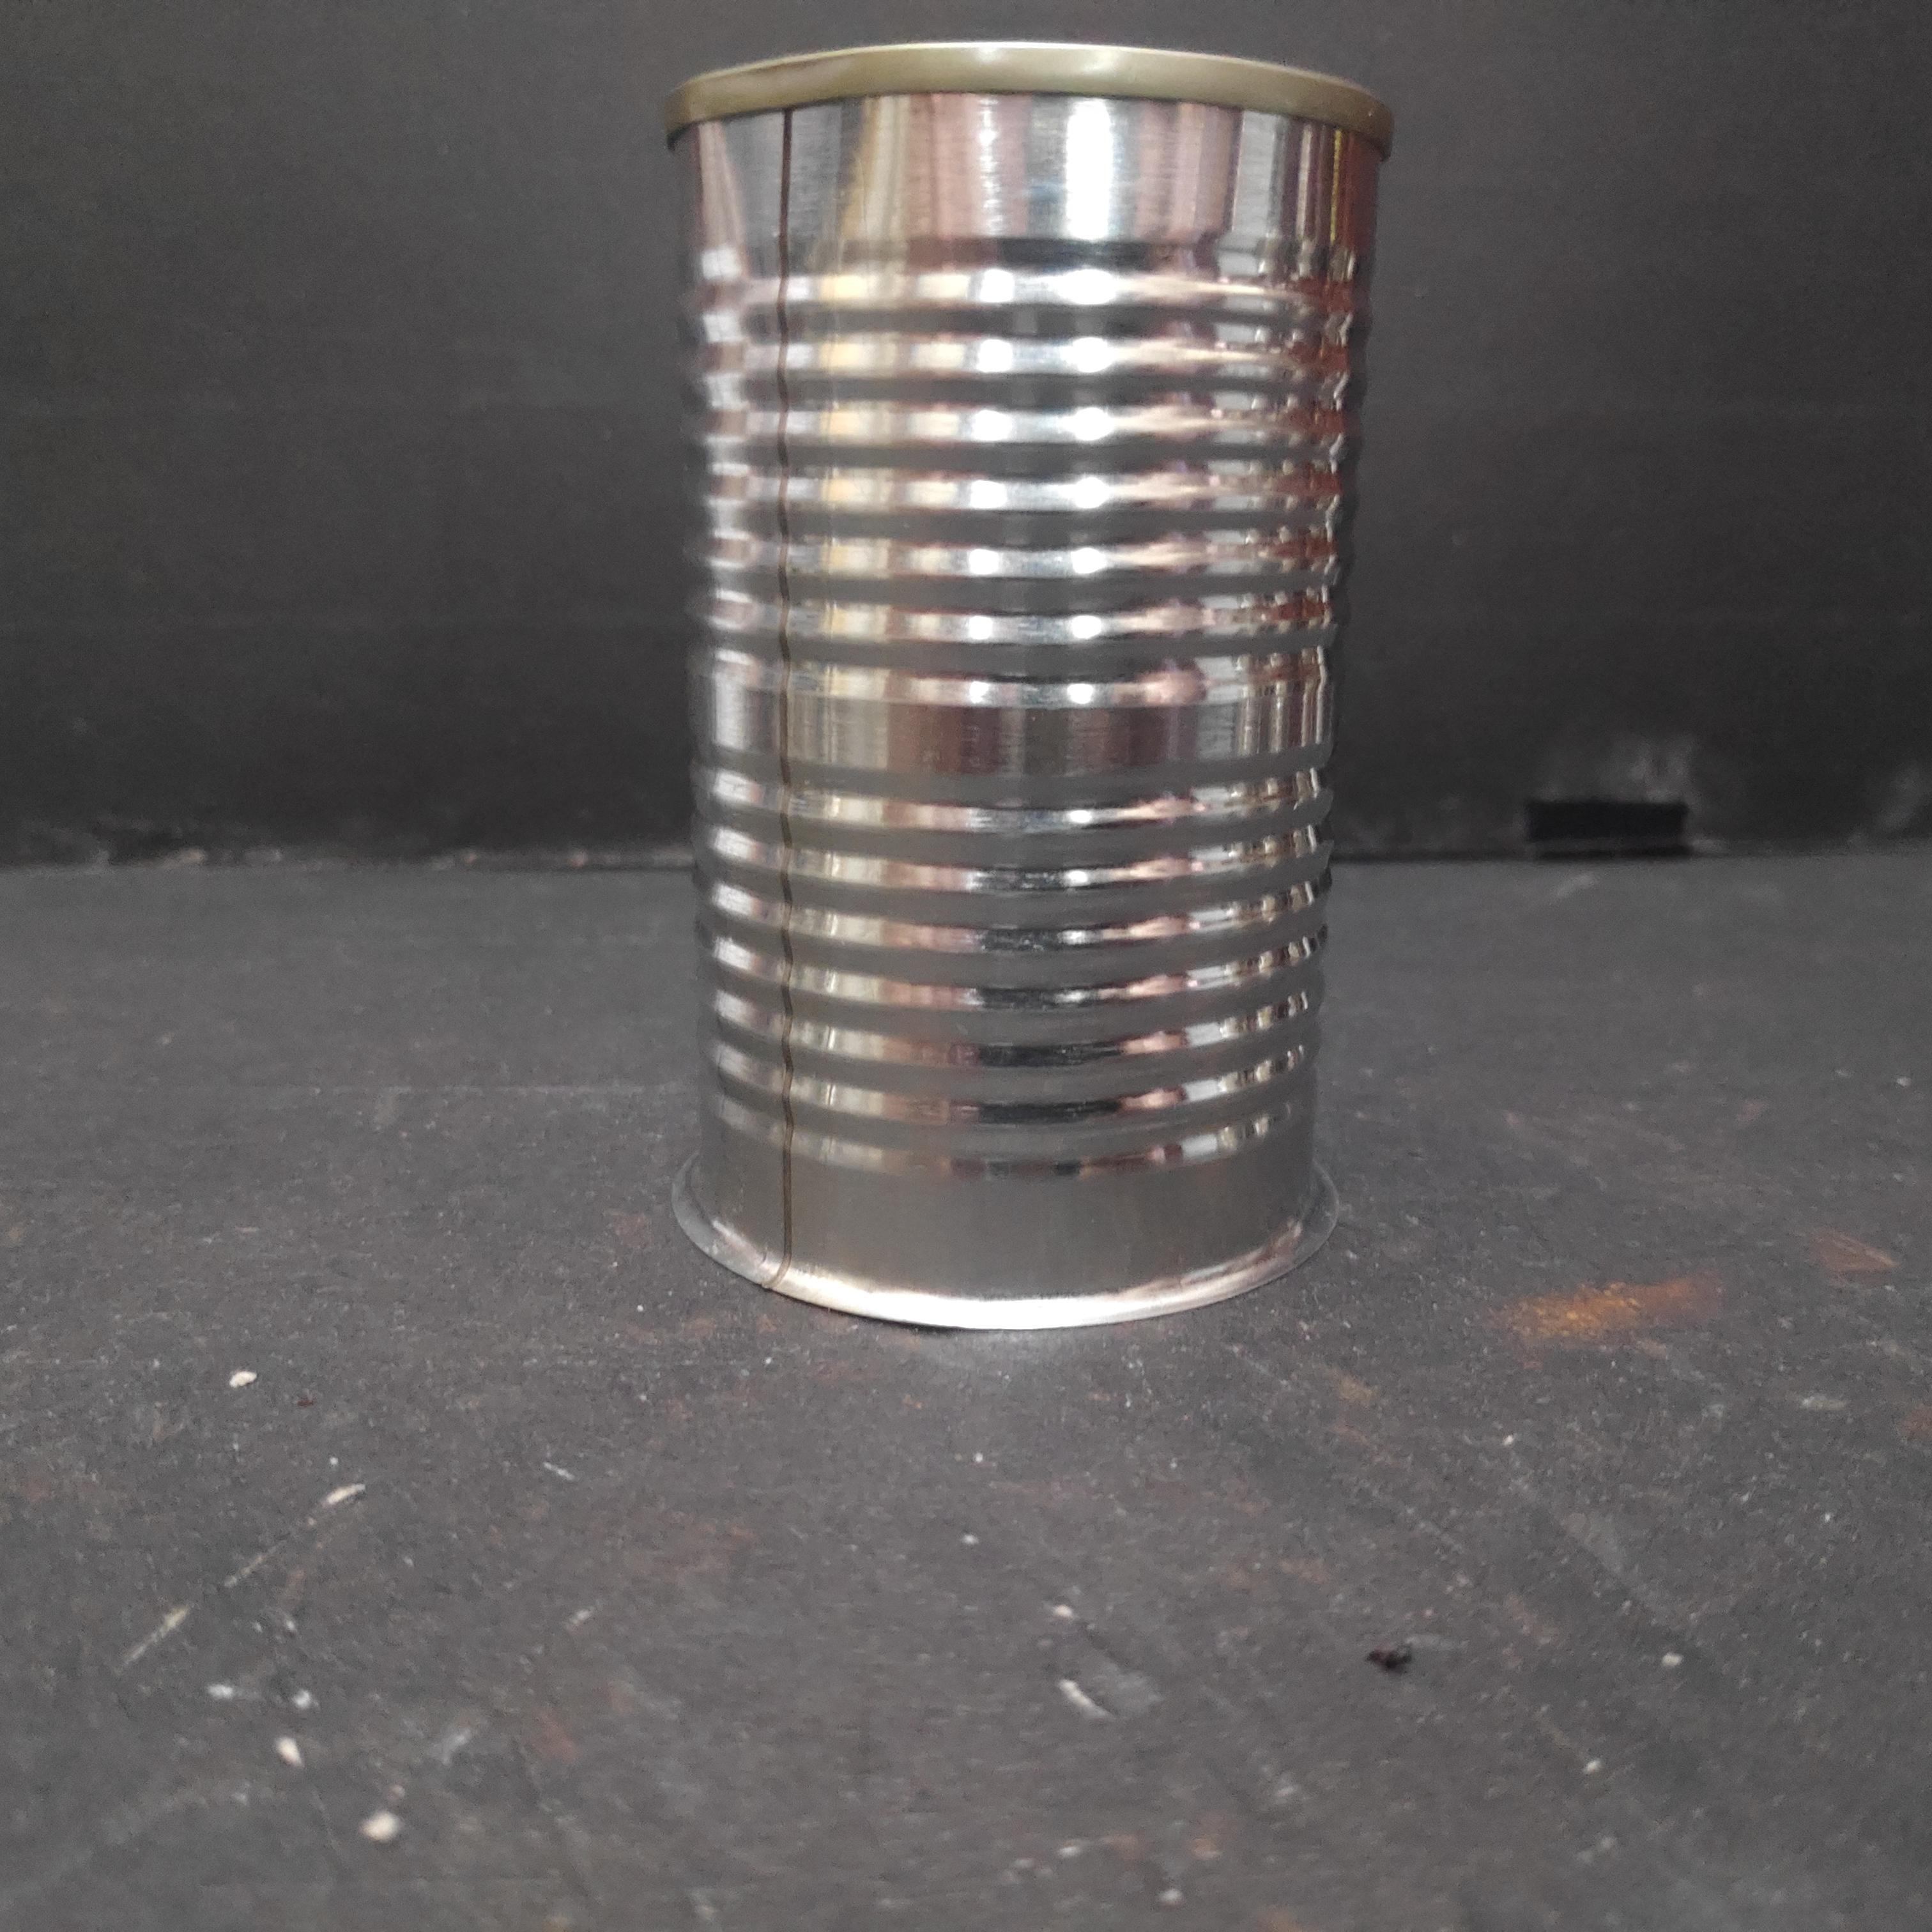Minor Defect: (653, 39, 1405, 1357)
